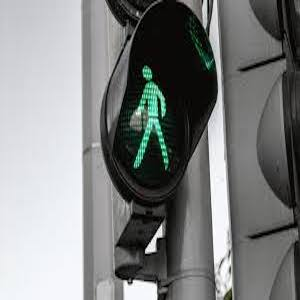green: (130, 67, 183, 169)
